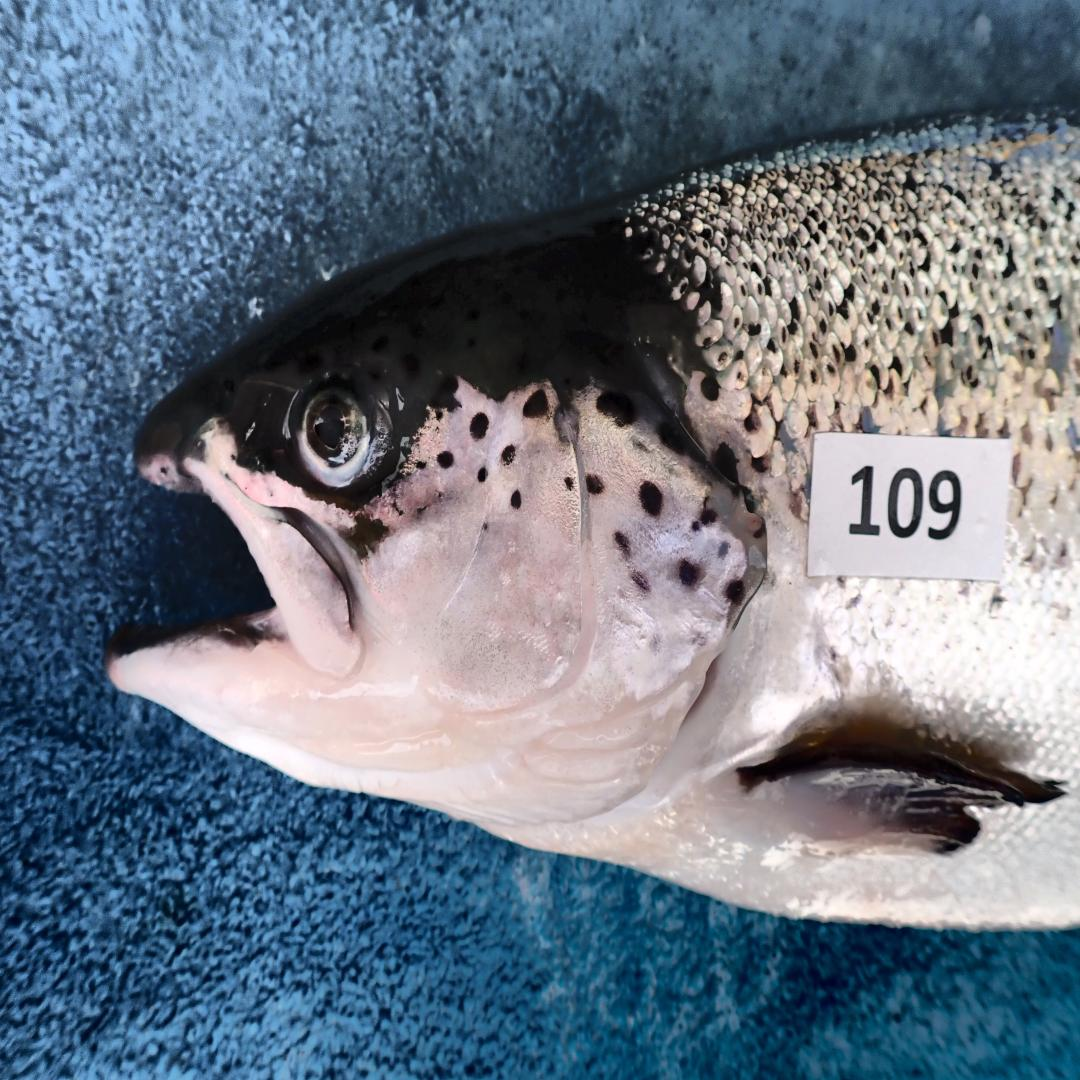spot: (597, 391, 635, 428), (553, 399, 580, 444), (639, 481, 662, 518), (523, 391, 548, 416), (724, 579, 745, 608), (614, 529, 633, 560), (679, 560, 700, 585), (470, 413, 489, 439), (699, 505, 718, 526), (631, 571, 650, 591), (586, 475, 603, 495), (633, 436, 650, 456), (437, 453, 454, 470), (689, 630, 705, 647), (648, 633, 662, 652), (502, 444, 515, 464), (510, 489, 521, 509), (717, 543, 730, 557), (413, 458, 426, 470), (563, 475, 574, 489), (477, 467, 487, 481), (691, 521, 701, 531), (437, 489, 445, 501), (481, 520, 489, 532)
